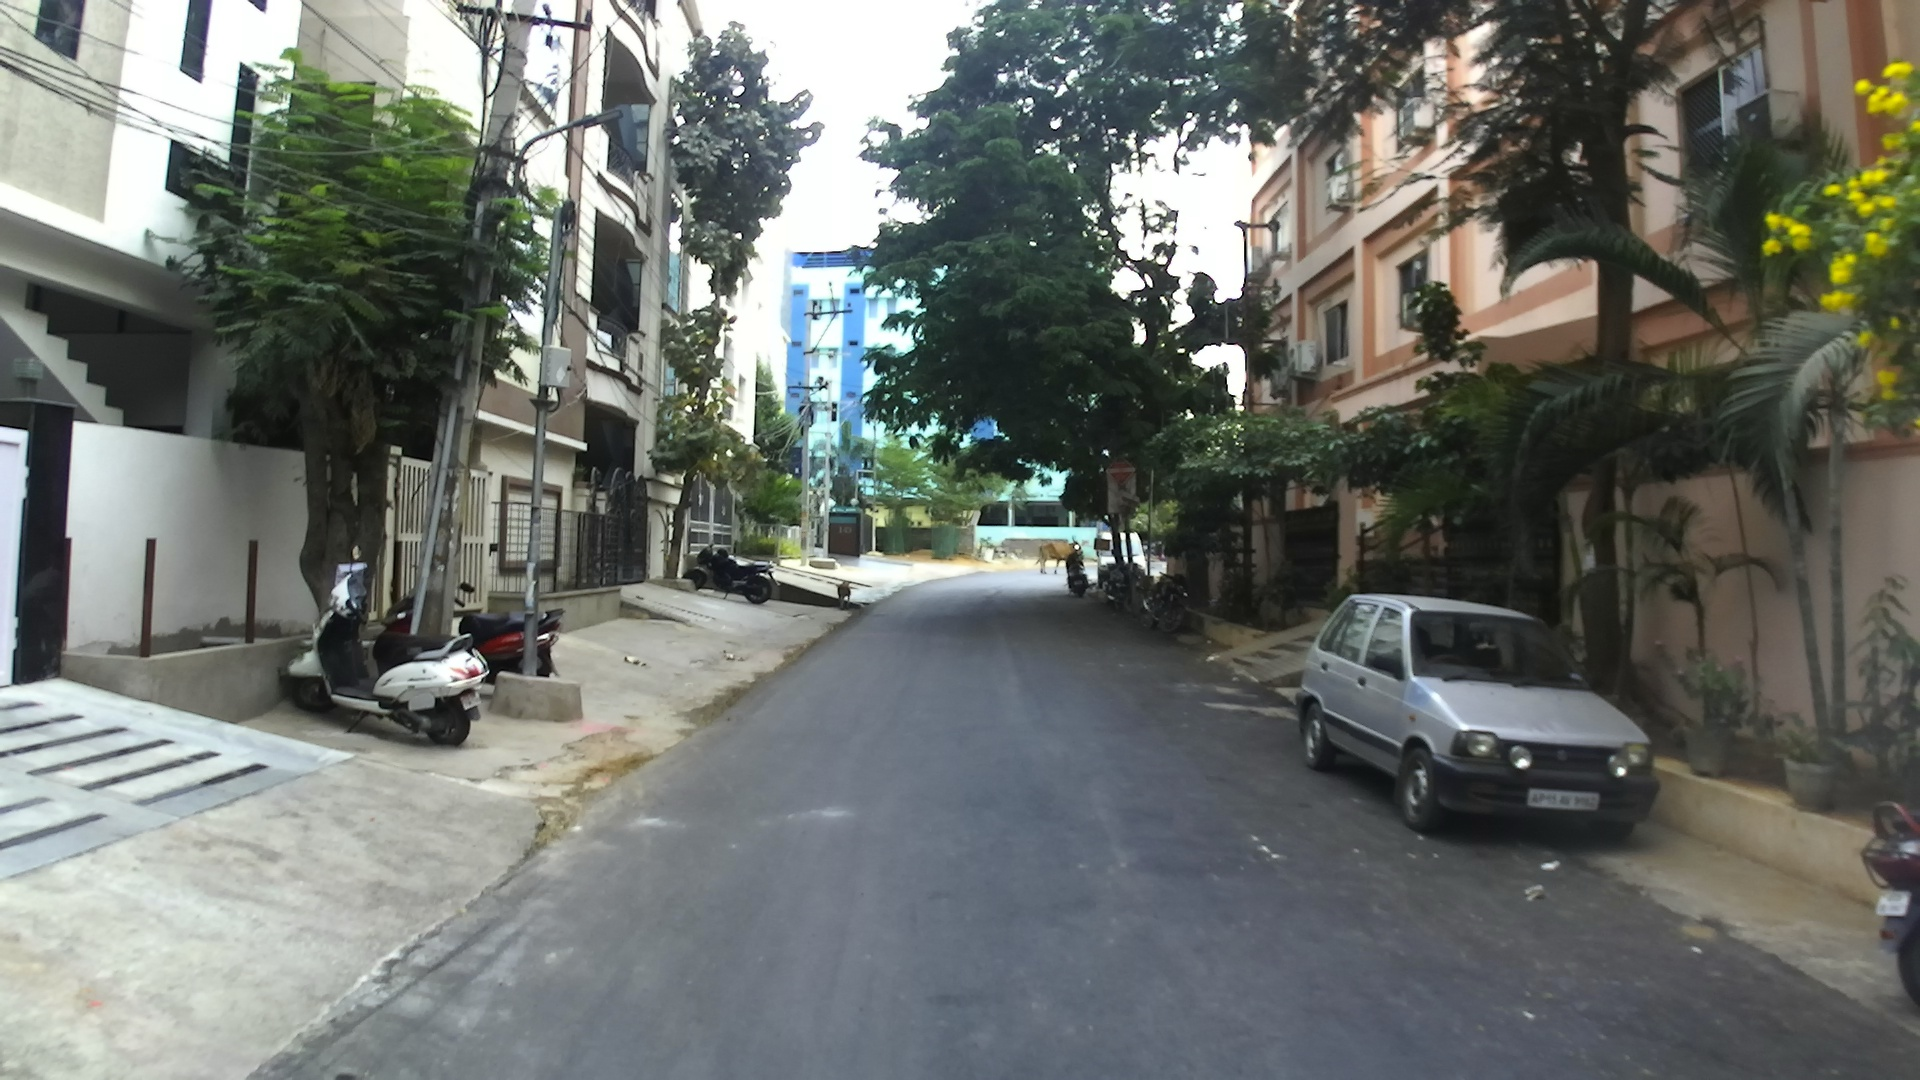vehicle: (1294, 592, 1659, 843), (1862, 796, 1919, 1017)
